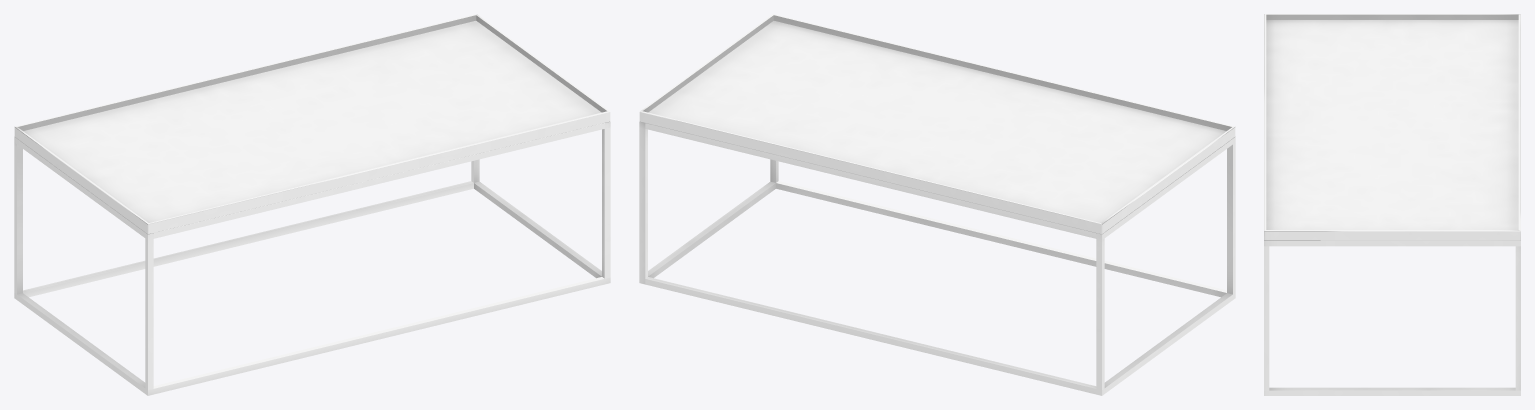
File: CoffeeTable.glb
The picture shows the model from 3 angles, left to right: view 1: azimuth 30°, elevation 25°; view 2: azimuth 150°, elevation 25°; view 3: azimuth 270°, elevation 25°; orthographic projection. The views are drawn at different scales.
Visible parts, largest first — view 1: CoffeeTable; view 2: CoffeeTable; view 3: CoffeeTable.
Boxes of the visible parts, bbox=[...] form: CoffeeTable: bbox=[14, 14, 610, 395]; CoffeeTable: bbox=[639, 14, 1235, 395]; CoffeeTable: bbox=[1264, 14, 1520, 395].
Size of the model in its own units: 1.2 by 0.4251 by 0.6.
1 material, 1 textured.
